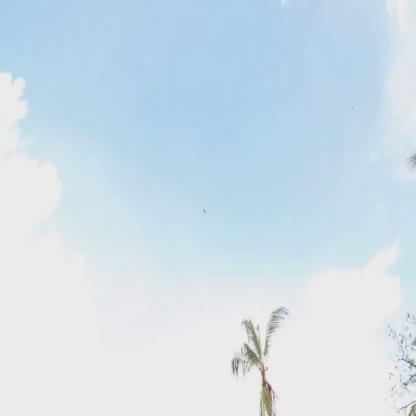drone: (202, 201, 210, 217)
